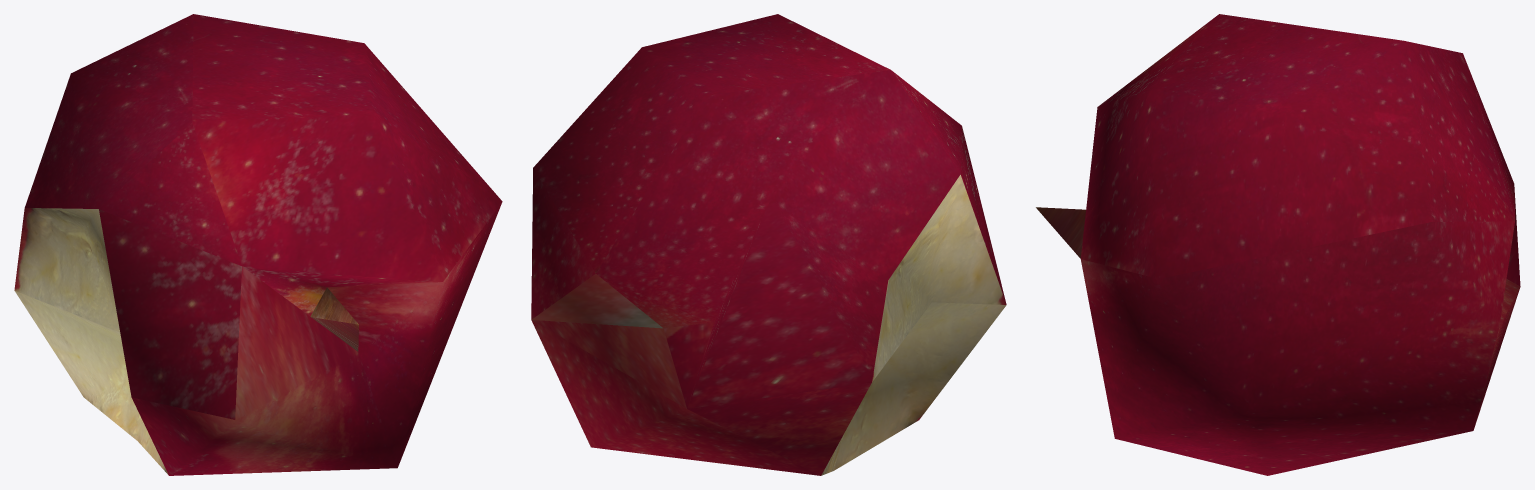
The model's file is Apple_1.obj.
The picture shows the model from 3 angles, left to right: view 1: azimuth 30°, elevation 25°; view 2: azimuth 150°, elevation 25°; view 3: azimuth 270°, elevation 25°; orthographic projection.
Visible parts, largest first — view 1: tgzpdhlpa_LOD0_TIER2_000; view 2: tgzpdhlpa_LOD0_TIER2_000; view 3: tgzpdhlpa_LOD0_TIER2_000.
Part boxes in pixels (bbox=[...]): tgzpdhlpa_LOD0_TIER2_000: bbox=[14, 14, 502, 475]; tgzpdhlpa_LOD0_TIER2_000: bbox=[531, 14, 1006, 475]; tgzpdhlpa_LOD0_TIER2_000: bbox=[1036, 14, 1520, 475].
Size of the model in its own units: 0.7334 by 0.764 by 0.8005.
Materials: 1 (1 with a texture image).
